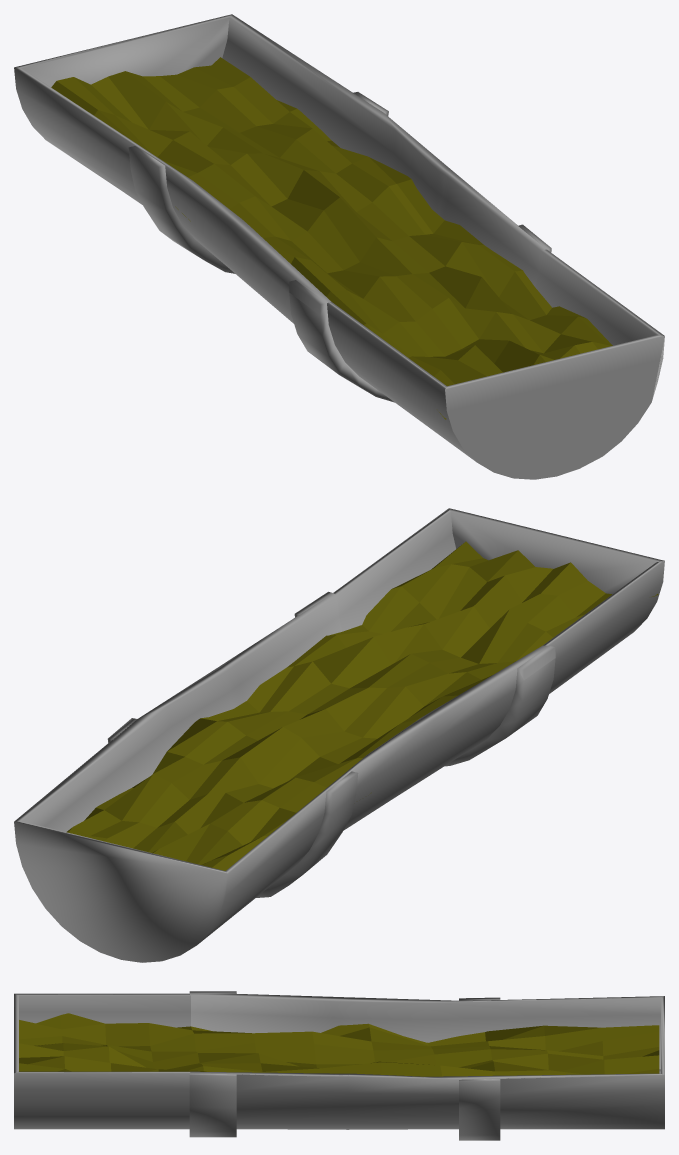
Rendered from Trough_Straight_full.fbx.
3 views of the same model, one above another, from view 1: azimuth 30°, elevation 25°; view 2: azimuth 150°, elevation 25°; view 3: azimuth 270°, elevation 25° (orthographic). The views are drawn at different scales.
Visible parts, largest first — view 1: trough_full; view 2: trough_full; view 3: trough_full.
Part boxes in pixels (box(x1,y1,x2,y2)): trough_full: box(14, 14, 664, 479); trough_full: box(14, 508, 664, 962); trough_full: box(14, 991, 664, 1140).
Bounding box in the file's own units: 33.35 × 16.54 × 101.
Materials: 2 (2 with a texture image).
